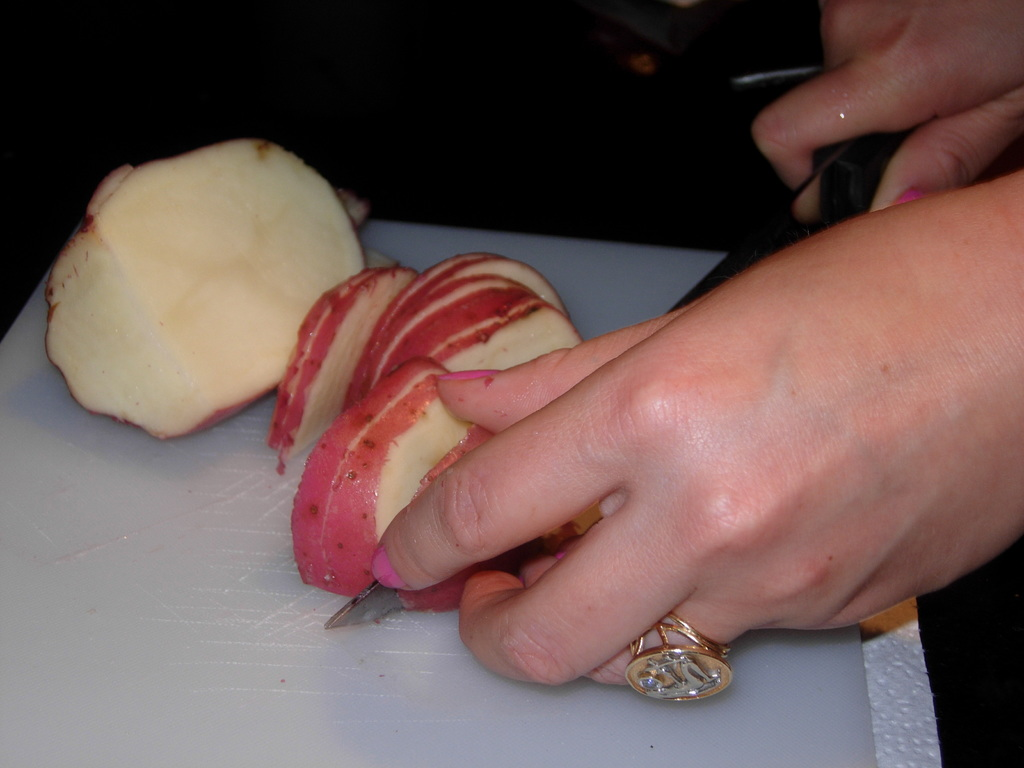Apple: (43, 136, 385, 492), (266, 251, 589, 604)
